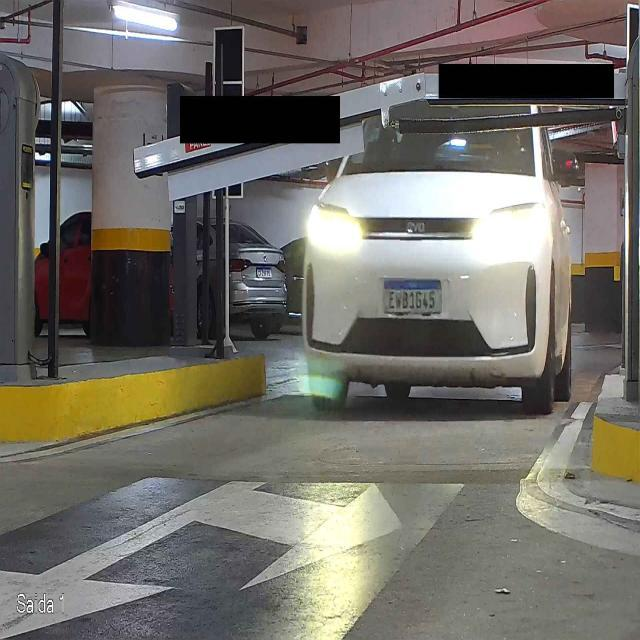mercosul_plate: (382, 277, 443, 316)
